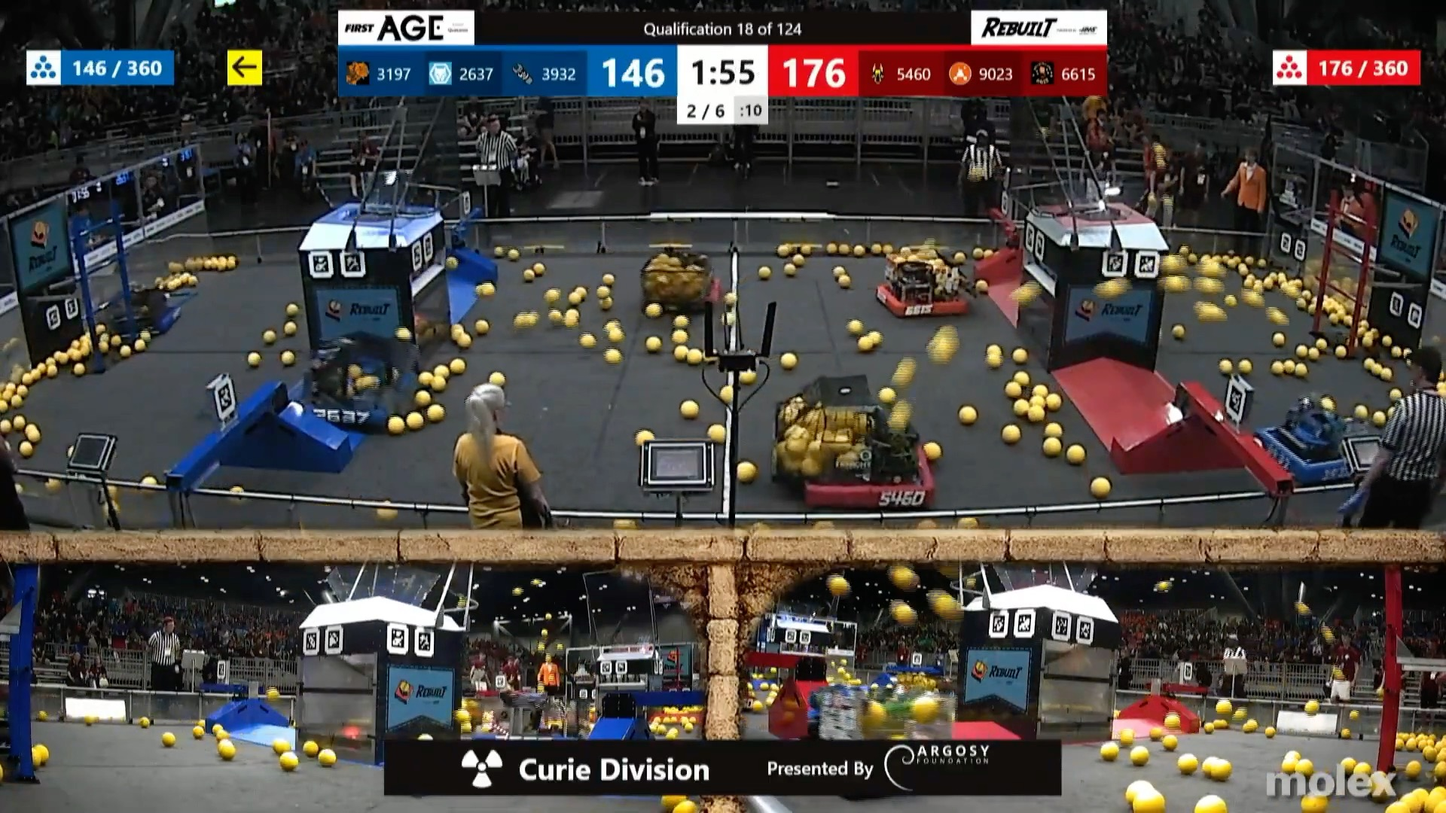bumpers: (799, 446, 941, 512), (270, 370, 410, 432), (1261, 429, 1375, 490), (866, 280, 981, 324), (645, 278, 729, 321), (112, 309, 187, 337)
